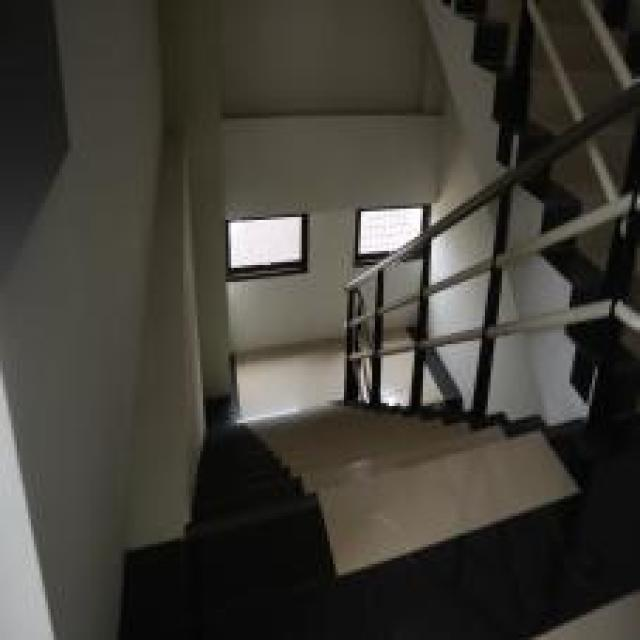downstair: (218, 418, 435, 593)
